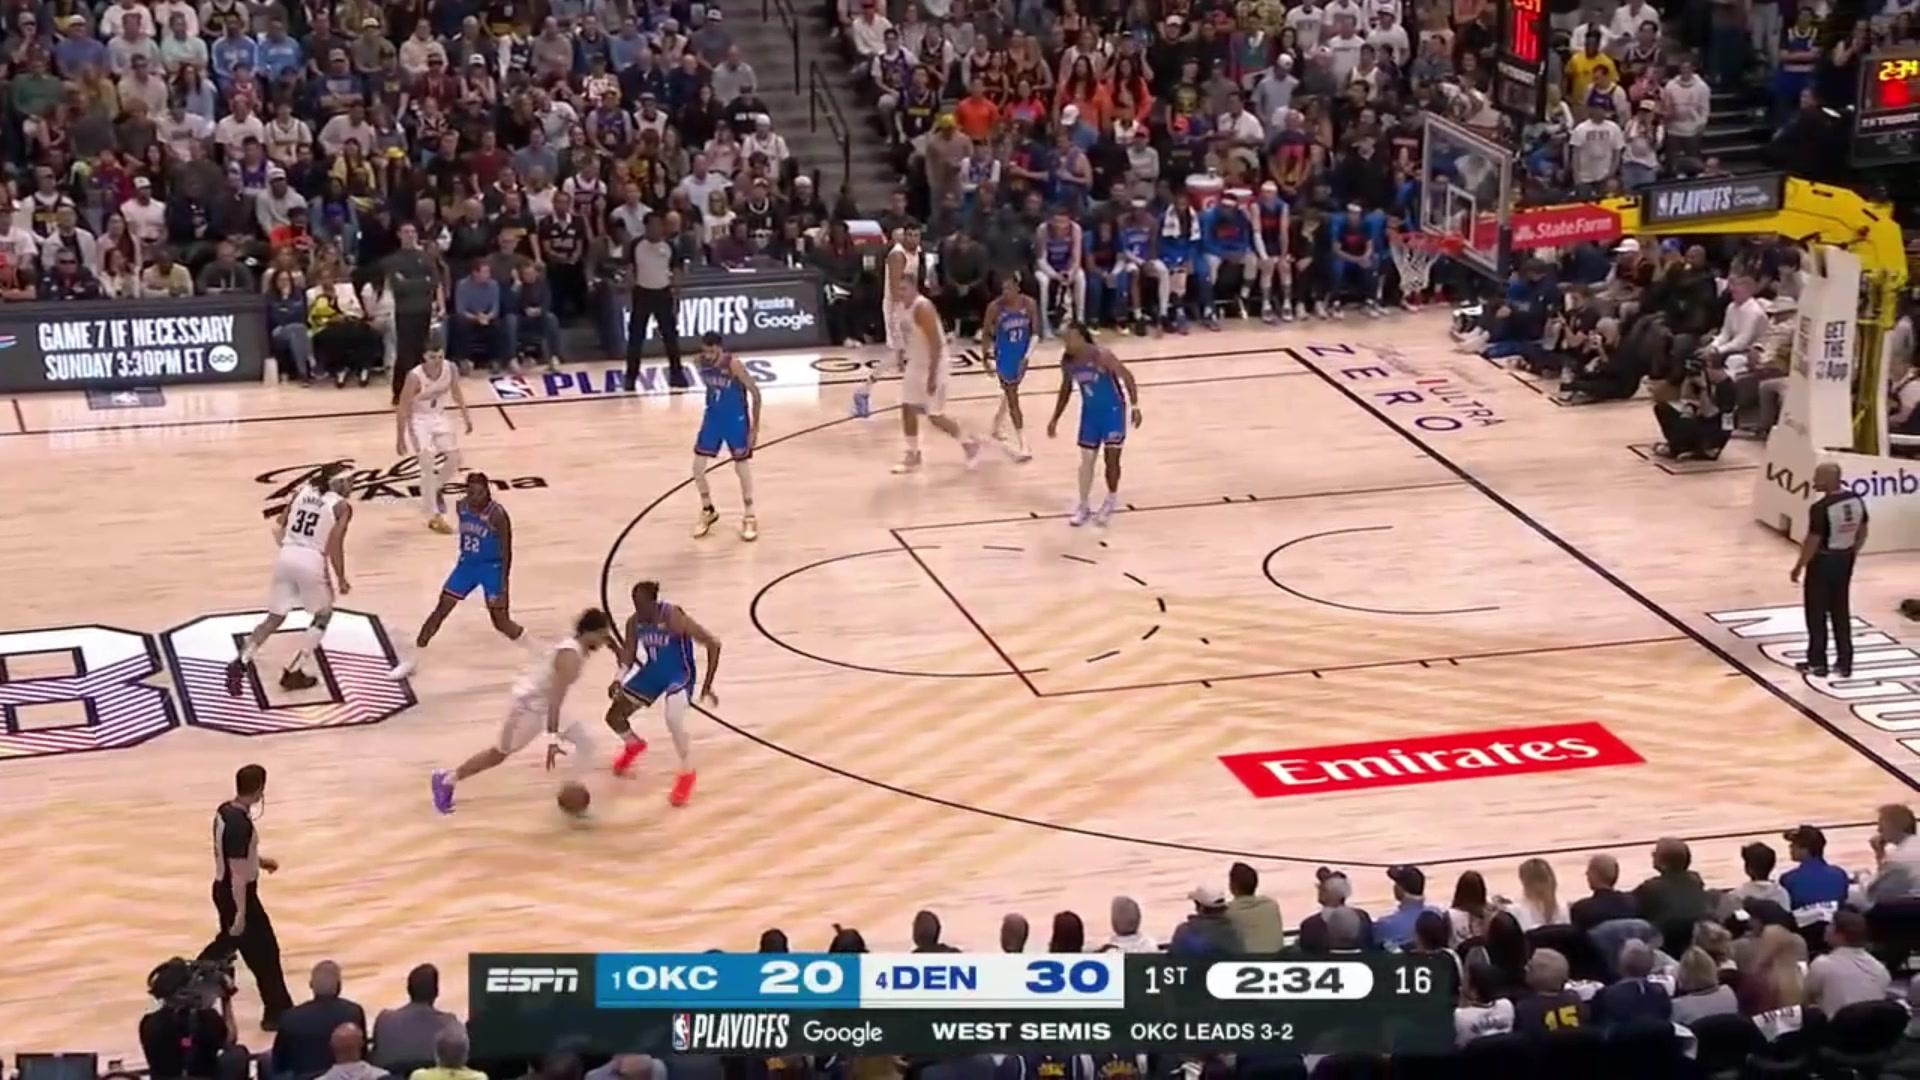no_foul: (454, 583, 757, 839)
